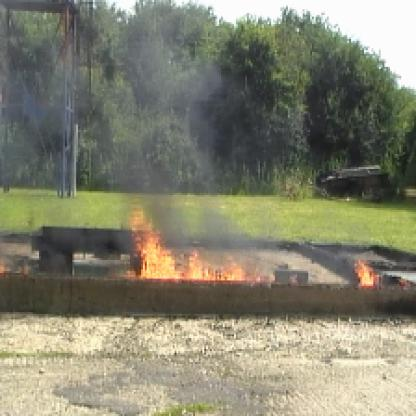Fire: (119, 199, 273, 288), (351, 260, 377, 290)
